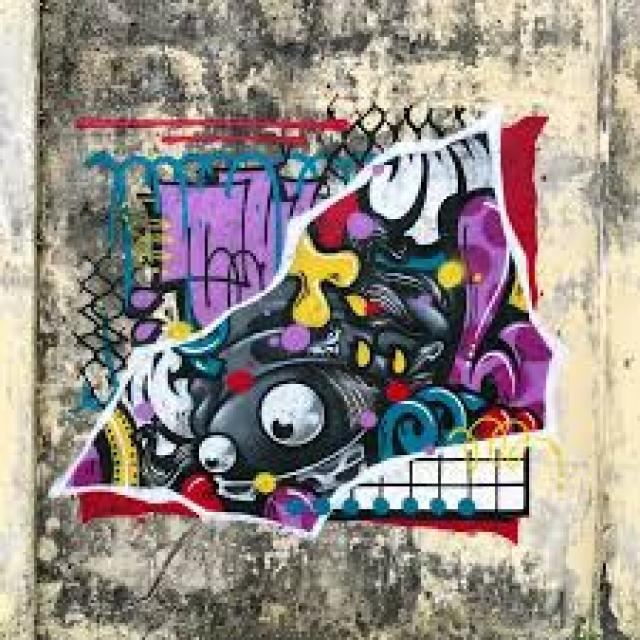-: (46, 114, 565, 545)
